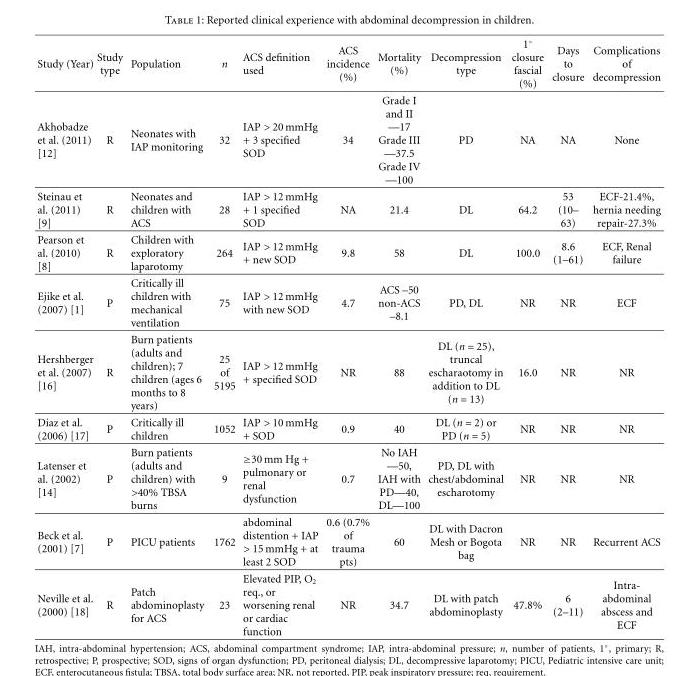table: (36, 36, 659, 637)
table column: (125, 36, 208, 637), (238, 36, 321, 637), (423, 36, 506, 637), (587, 36, 659, 637), (36, 36, 94, 637), (321, 36, 372, 637), (372, 36, 423, 637), (506, 36, 547, 637), (547, 36, 587, 637), (94, 36, 125, 637), (208, 36, 238, 637)
table column header: (36, 36, 659, 91)
table row: (36, 91, 659, 187), (36, 330, 659, 413), (36, 443, 659, 513), (36, 569, 659, 637), (36, 274, 659, 330), (36, 513, 659, 569), (36, 36, 659, 91), (36, 230, 659, 274), (36, 187, 659, 230), (36, 413, 659, 443)
